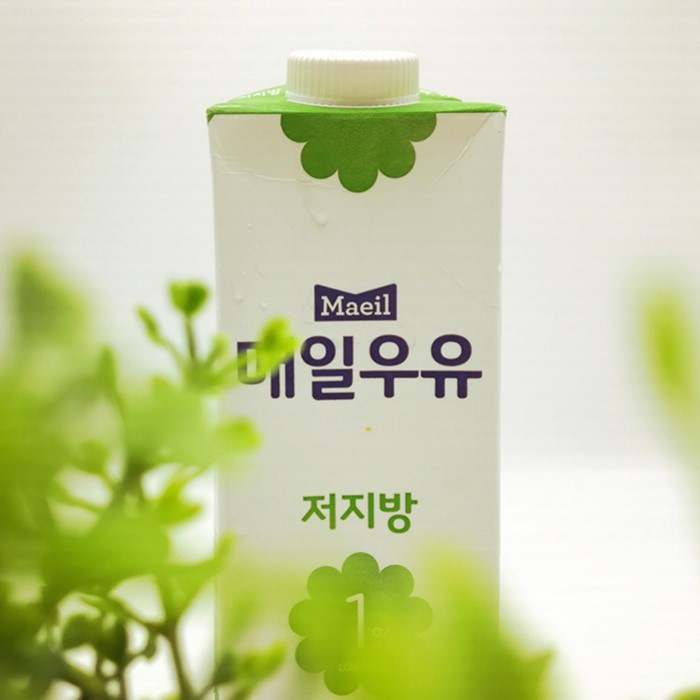milk: (205, 47, 502, 700)
